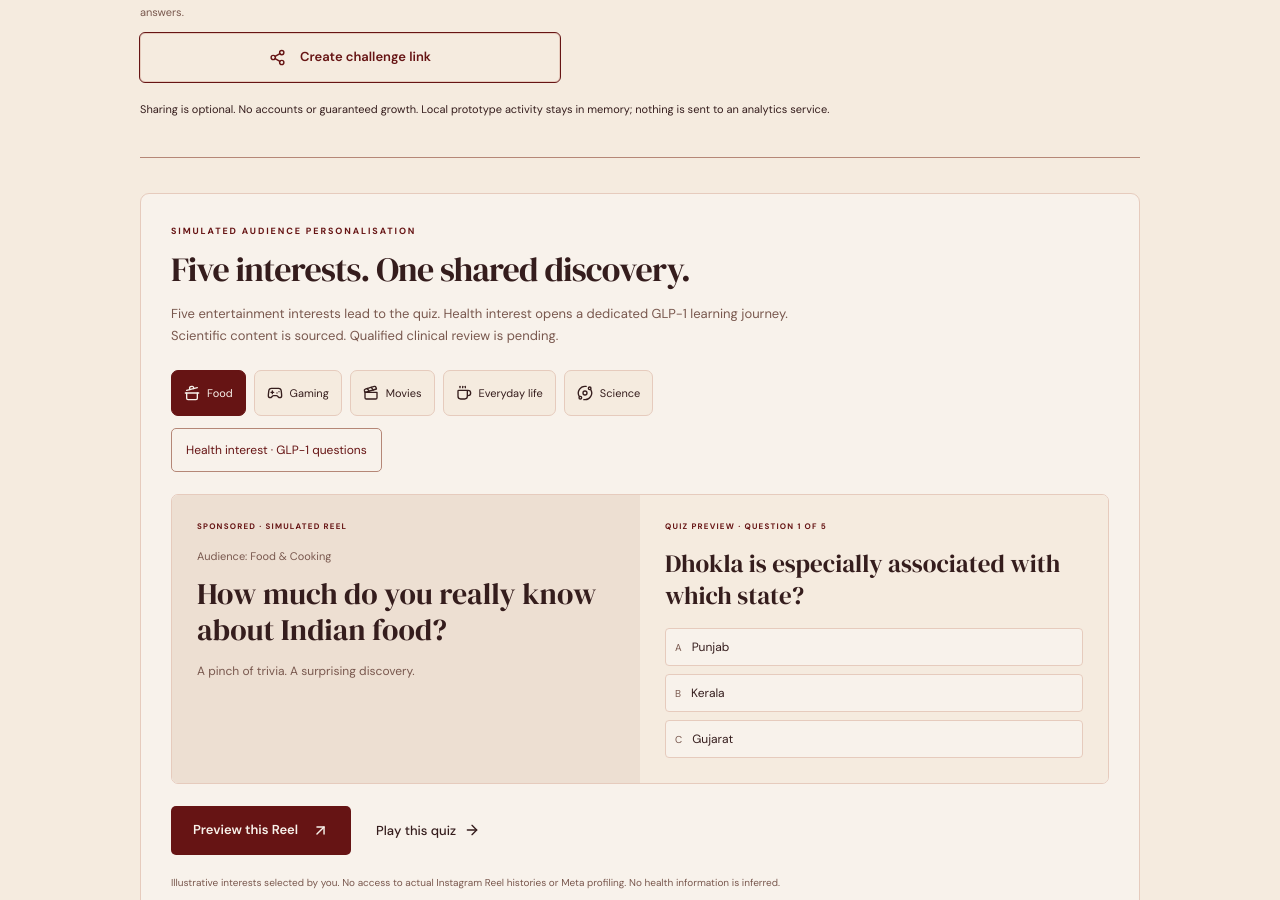
GLP-1 educational journeys › opens the health-interest demonstration and direct learning Reel
(page scrolled)
Click the button "Health interest · GLP-1 questions" at coordinates (276, 450), box [171,428,382,472]
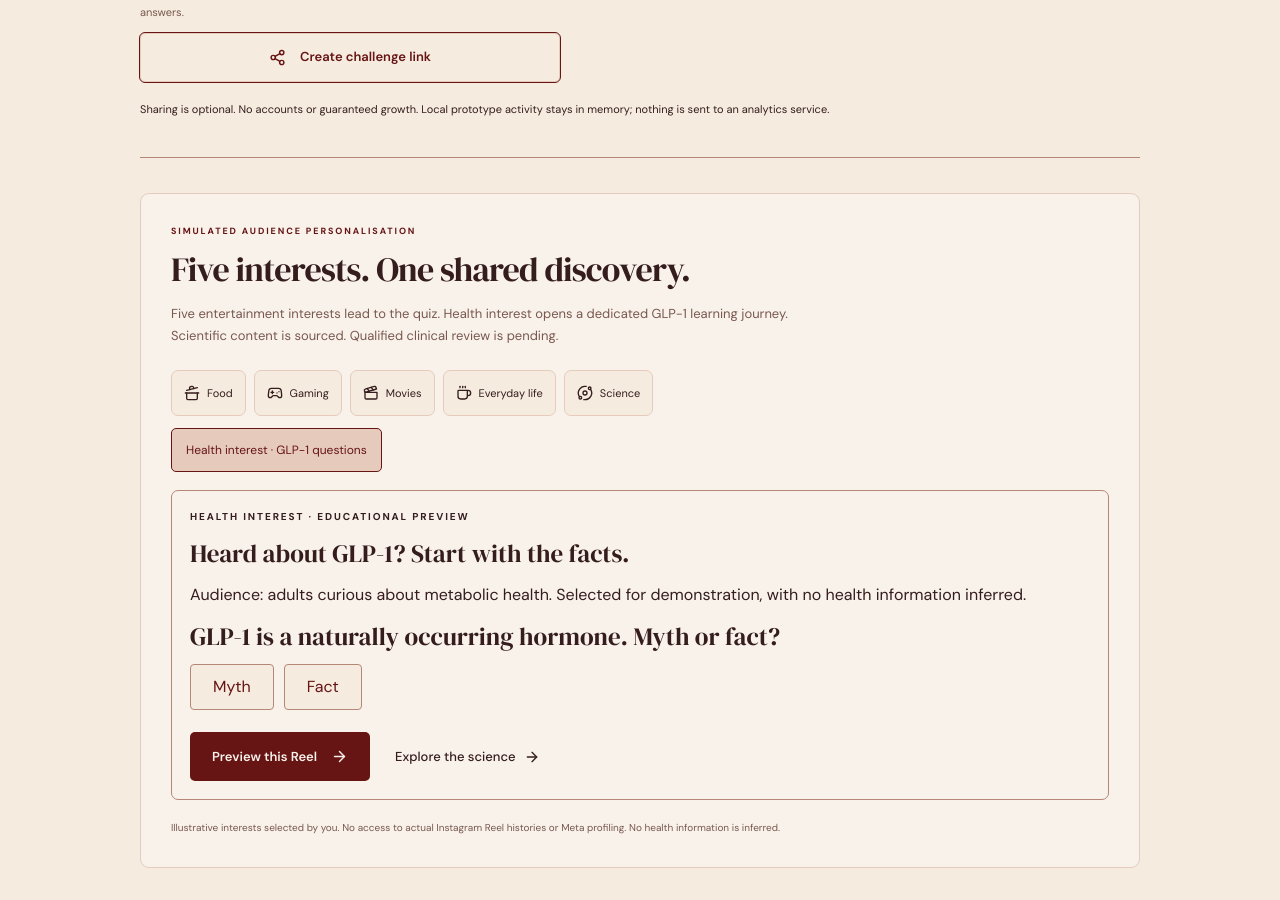
Click the button "Fact" at coordinates (323, 688), box [284,664,362,710]
(page scrolled)
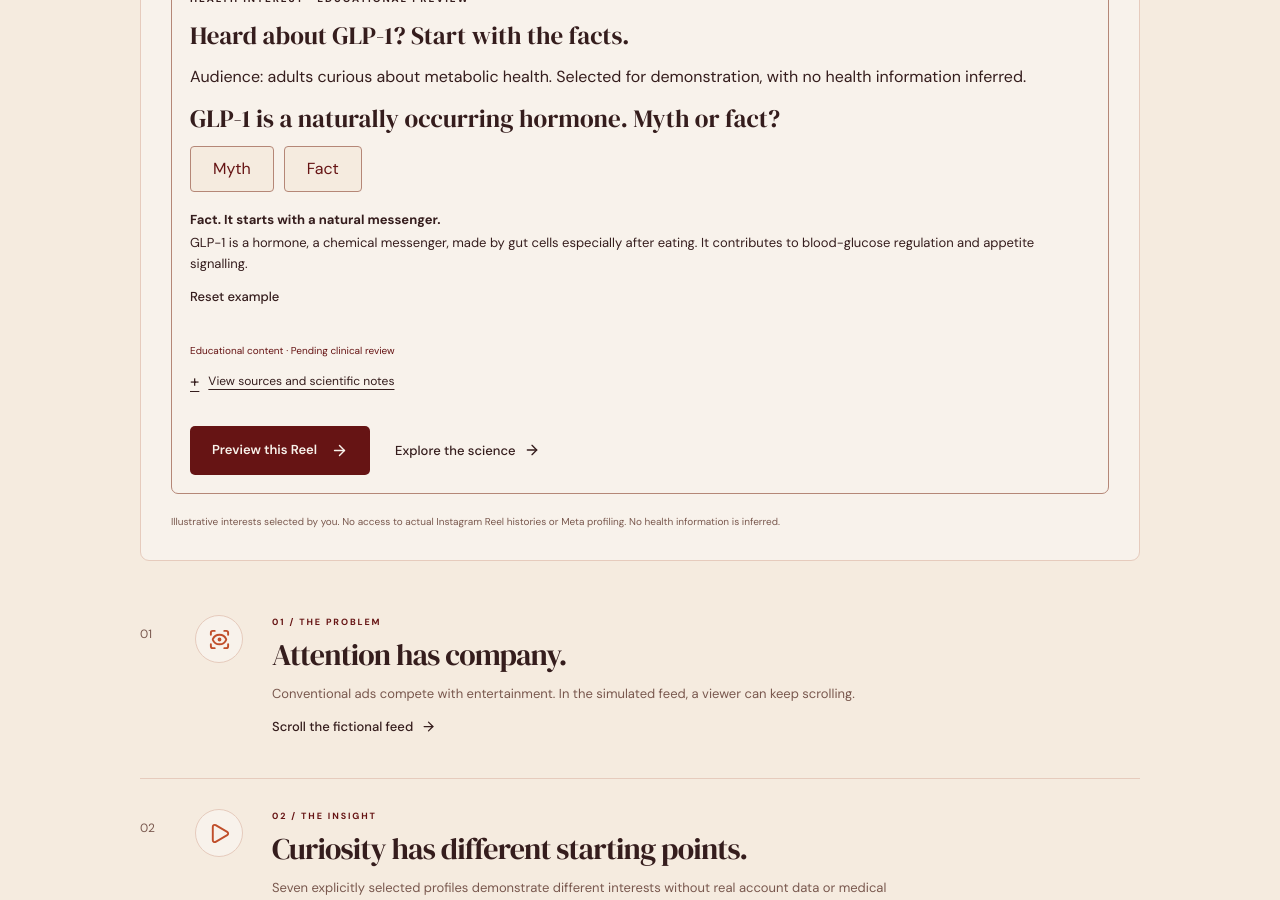
Now the message shows "GLP-1 is a hormone, a chemical messenger, made by gut cells especially after eating. It contributes to blood-glucose regulation and appetite signalling.", box [190,234,1034,272]
Click the link "Preview this Reel" at coordinates (280, 450), box [190,426,370,475]
(page scrolled)
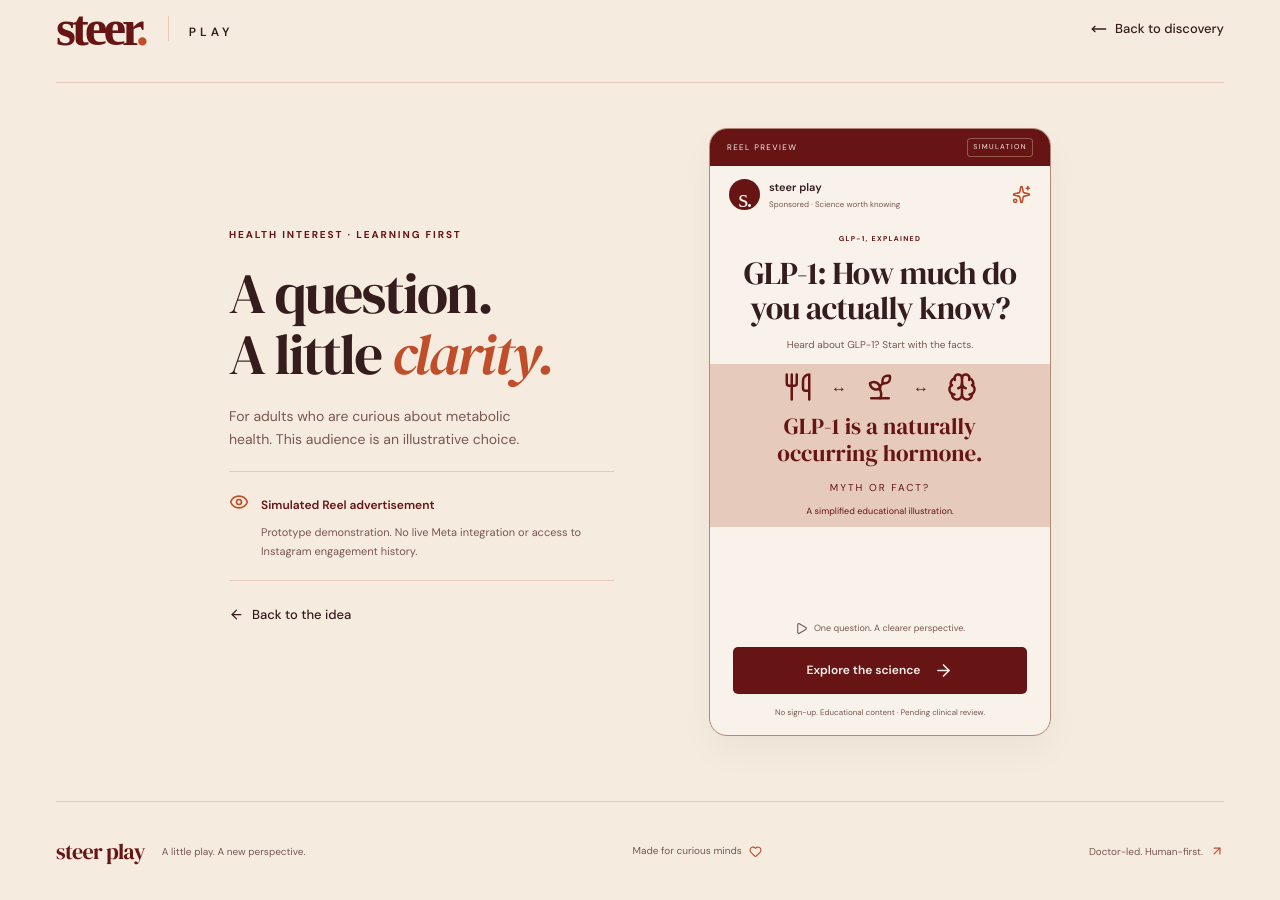
Expected: the text "SIMULATION" is shown, [967,138,1033,156]
Click the link "Explore the science" at coordinates (880, 670), box [733,647,1027,694]
(page scrolled)
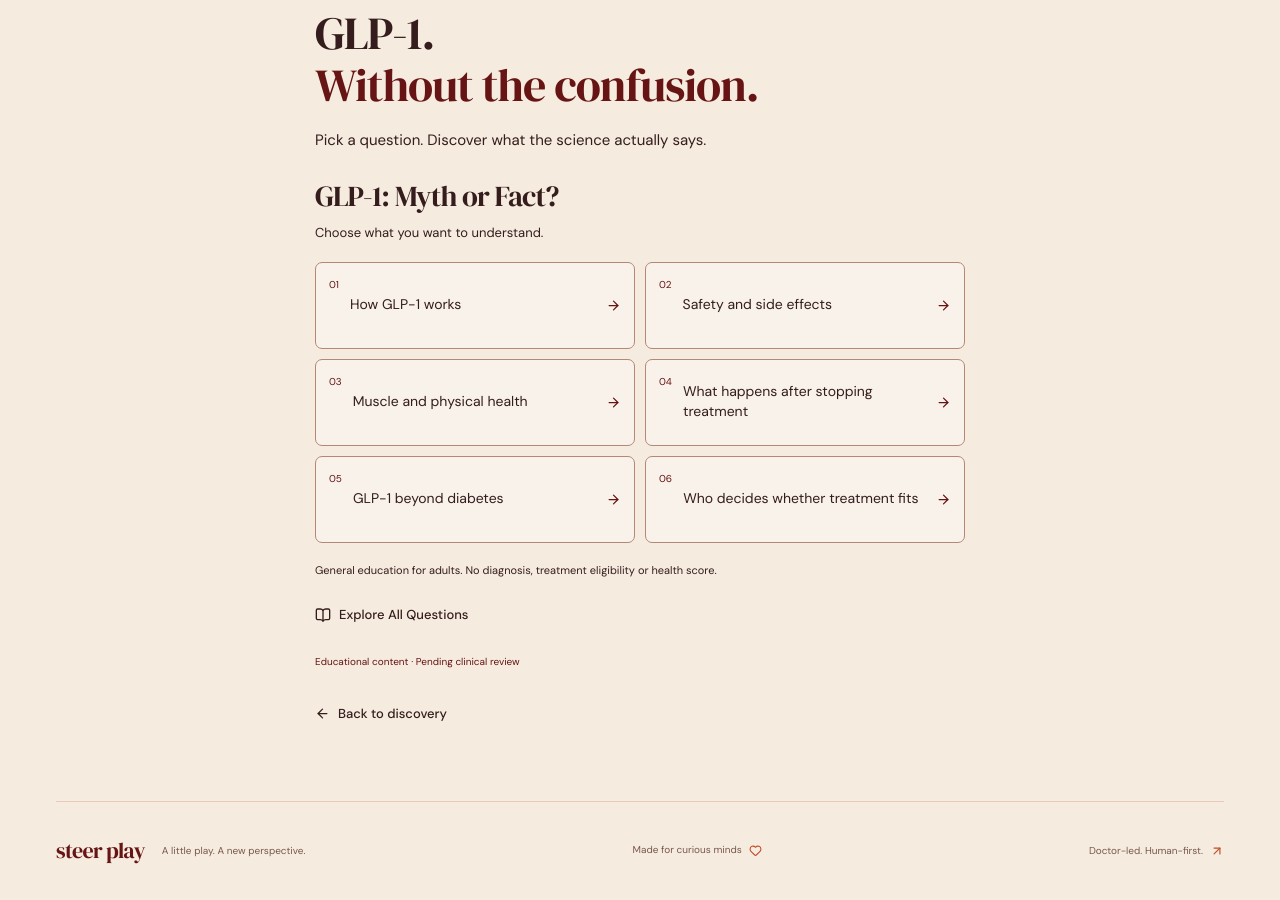
Now the heading "GLP-1: Myth or Fact?" is shown, box [315,176,559,216]
